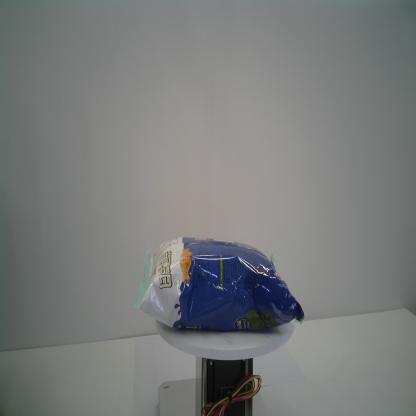Puffed Food: (132, 236, 305, 332)
